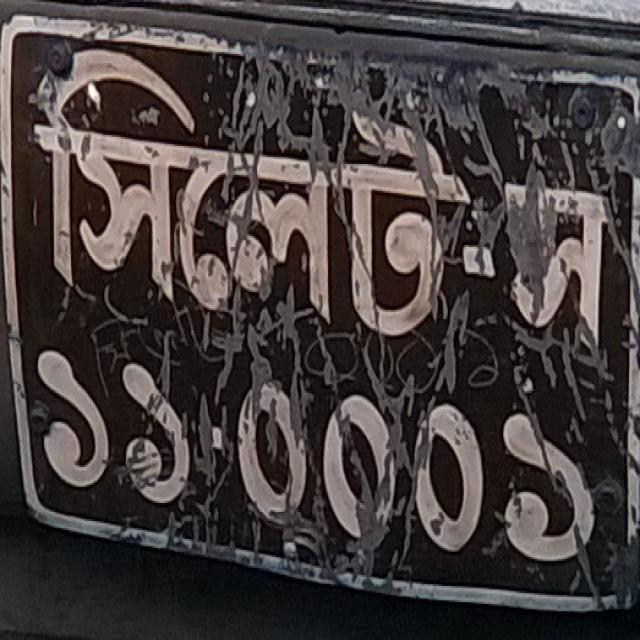numberplate: (0, 1, 639, 615)
